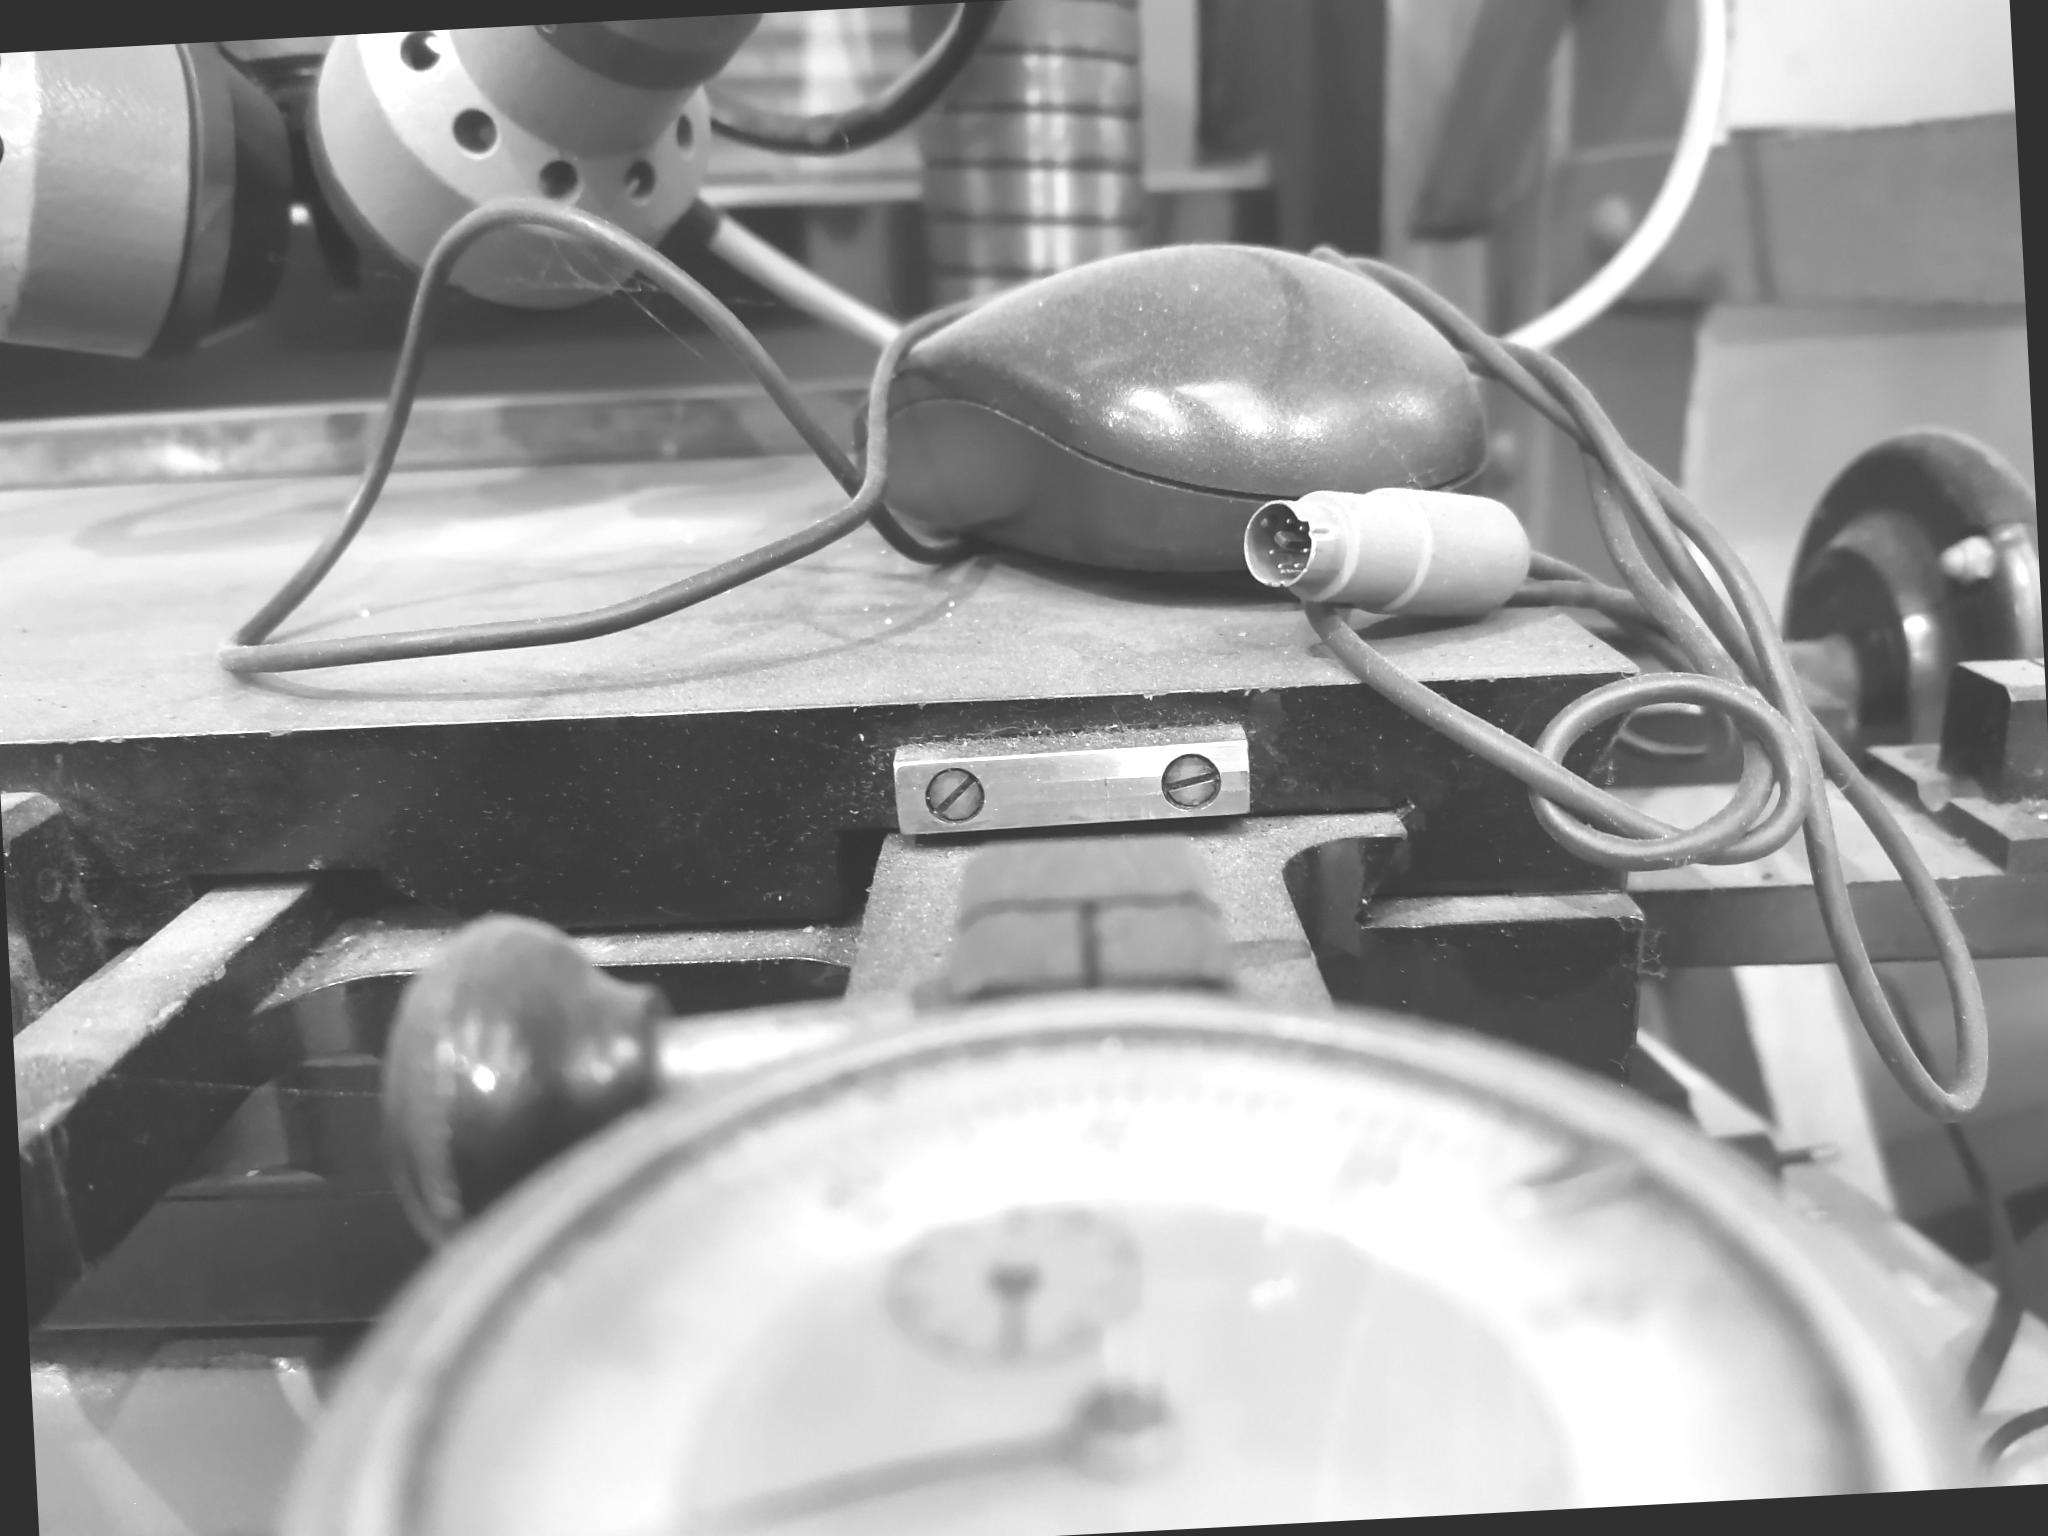screw: (1158, 749, 1226, 815), (921, 760, 985, 824)
